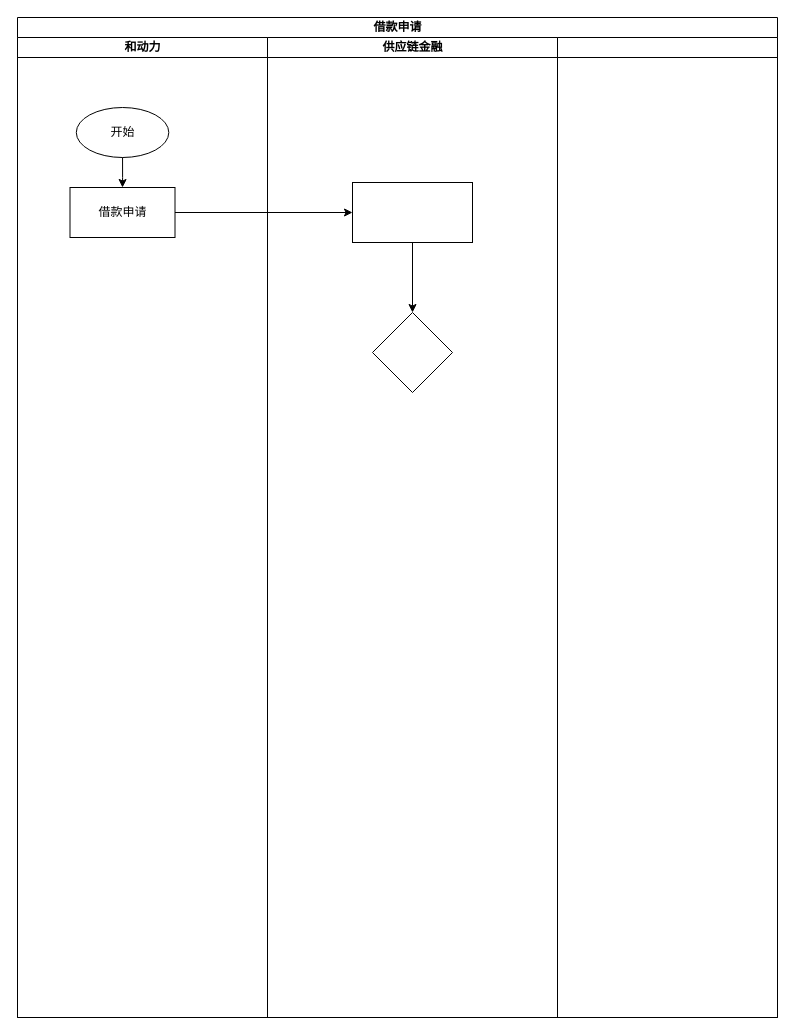
The diagram is 795 pixels wide and 1035 high, and some of its shapes have lost their labels. The shapes that lost their labels are listed below. From the top down, each one's centre as x and y in pixels, then its label:
point (412, 212): 接收、解析参数，取出明文plain,密文signature
point (667, 527): 金融中台
